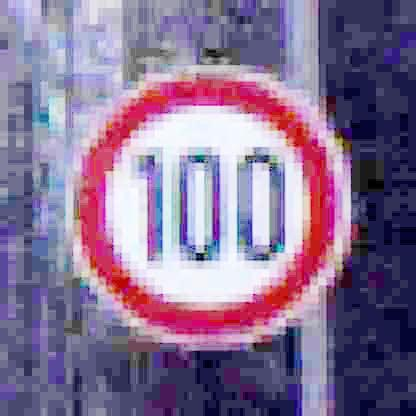Speed Limit -100-: (62, 62, 359, 349)
